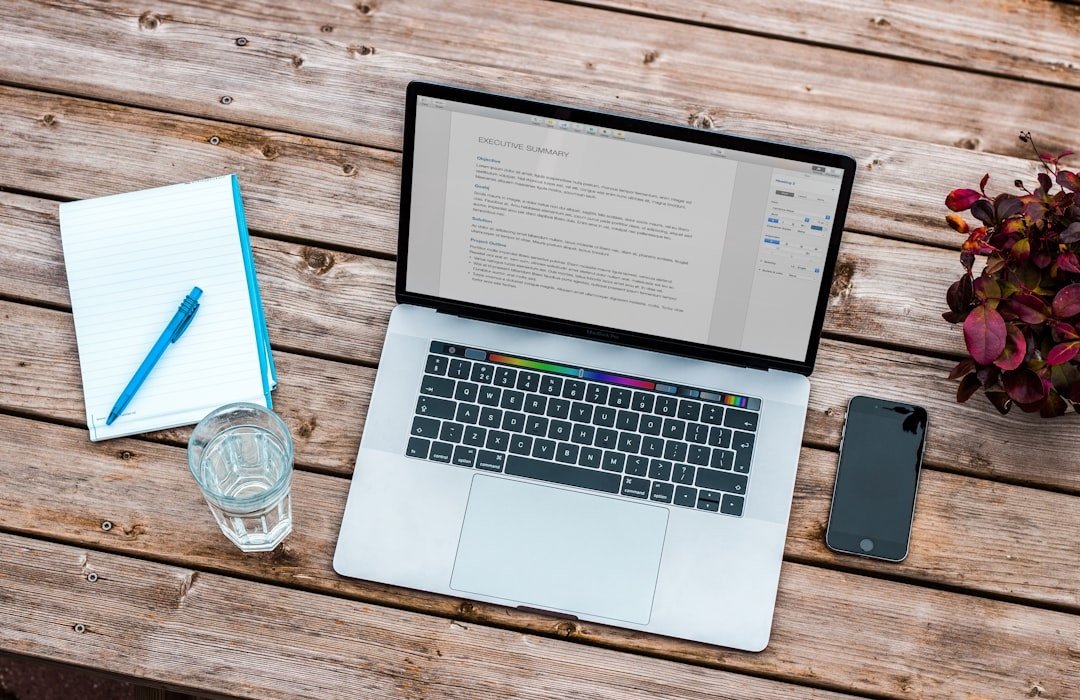laptop: (332, 52, 863, 662)
